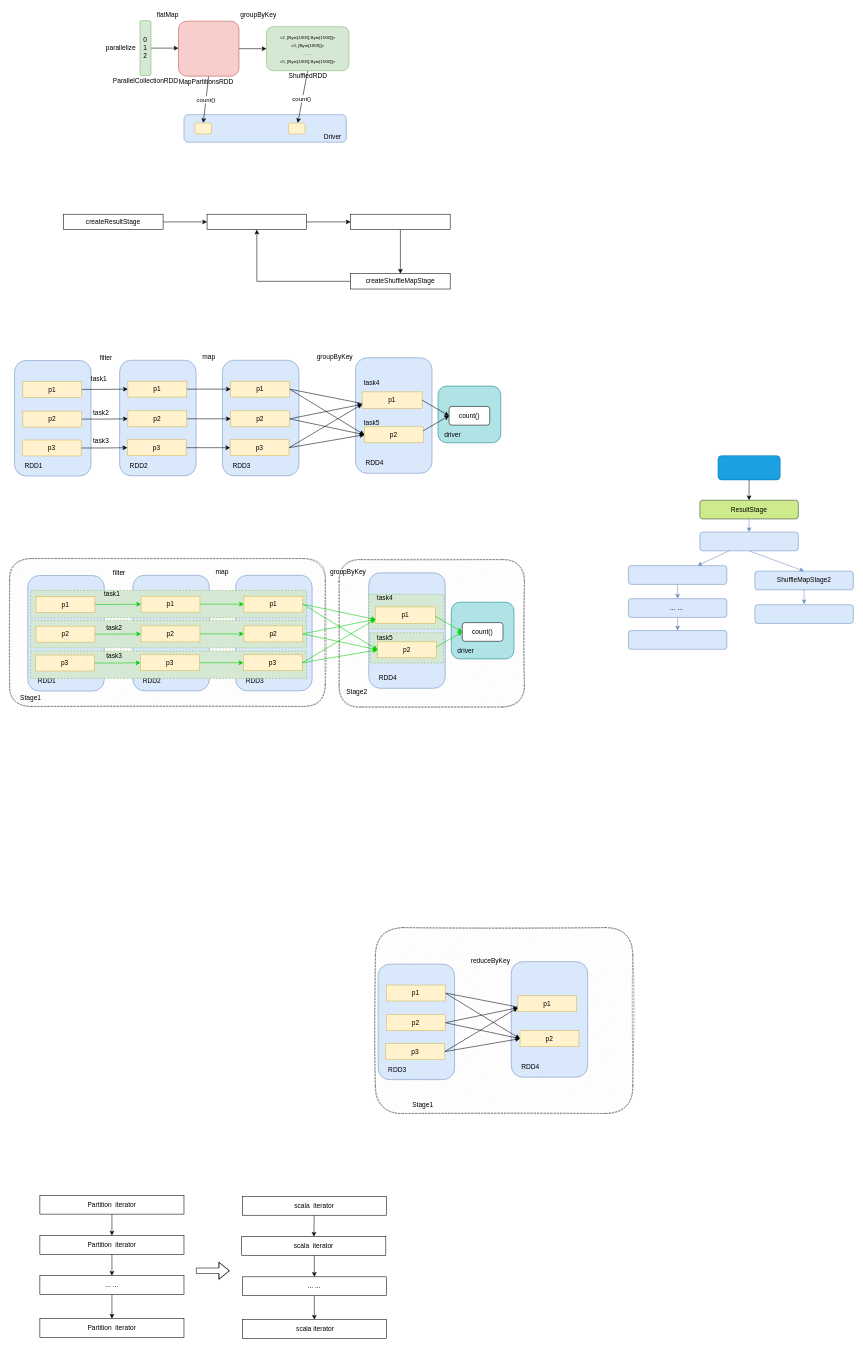
The diagram is 863 pixels wide and 1348 high, and some of its shapes have lost their labels. The shapes that lost their labels are listed below. From the top down, each one's box as (x1, y1, x2, y2) in pixels, then its label:
(178, 21, 239, 76): <2, Byte[1000]> <5, Byte[1000]> ... ... <3, Byte[1000]>
(207, 214, 307, 230): getOrCreateParentStages
(350, 214, 450, 230): getOrCreateShuffleMapStage
(717, 455, 780, 480): Job
(699, 532, 798, 551): ShuffleMapStage0
(628, 565, 727, 584): ShuffleMapStage1
(754, 604, 853, 623): ShuffleMapStage3
(628, 630, 727, 649): ShuffleMapStageN
